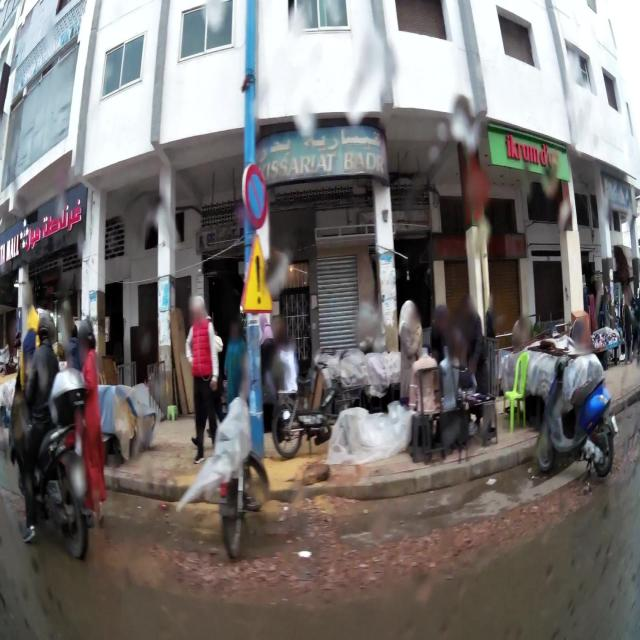forb_stopping: (244, 162, 268, 230)
